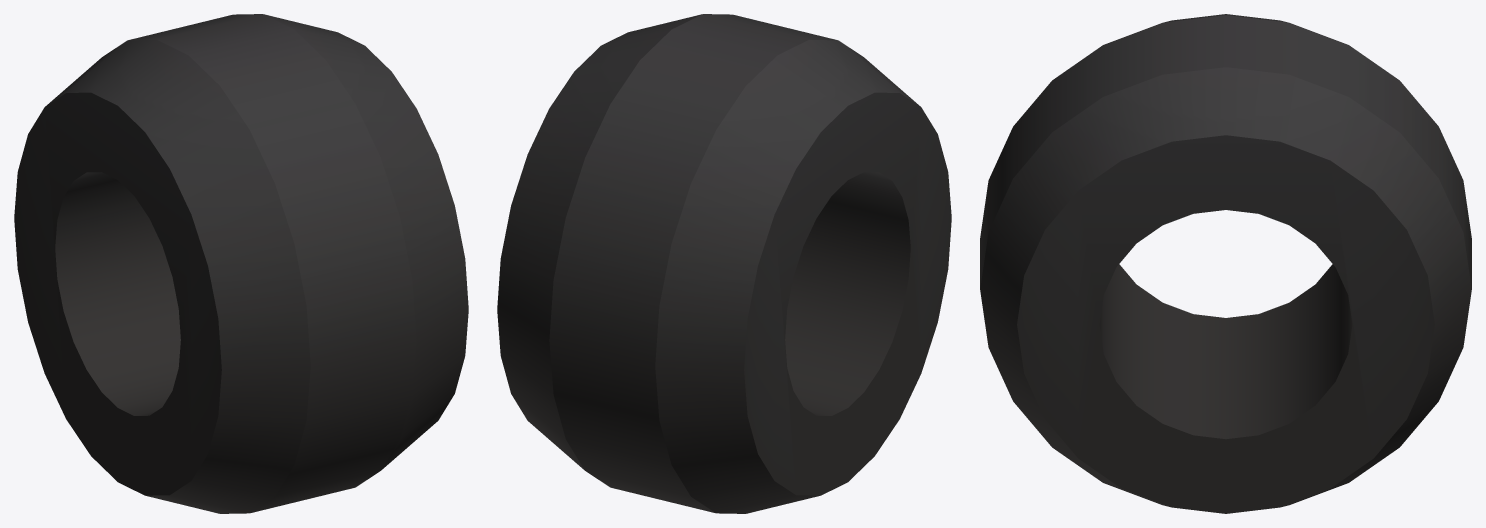
Rendered from debris_tire.glb.
3 views of the same model, side by side, from view 1: azimuth 30°, elevation 25°; view 2: azimuth 150°, elevation 25°; view 3: azimuth 270°, elevation 25° (orthographic).
Parts seen in each view (by area): view 1: debris-tire; view 2: debris-tire; view 3: debris-tire.
Boxes of the visible parts, left/top/right/bottom form: debris-tire: left=14, top=14, right=468, bottom=513; debris-tire: left=497, top=14, right=951, bottom=513; debris-tire: left=980, top=14, right=1471, bottom=513.
Size of the model in its own units: 0.4189 by 0.7181 by 0.7181.
1 material, 1 textured.
